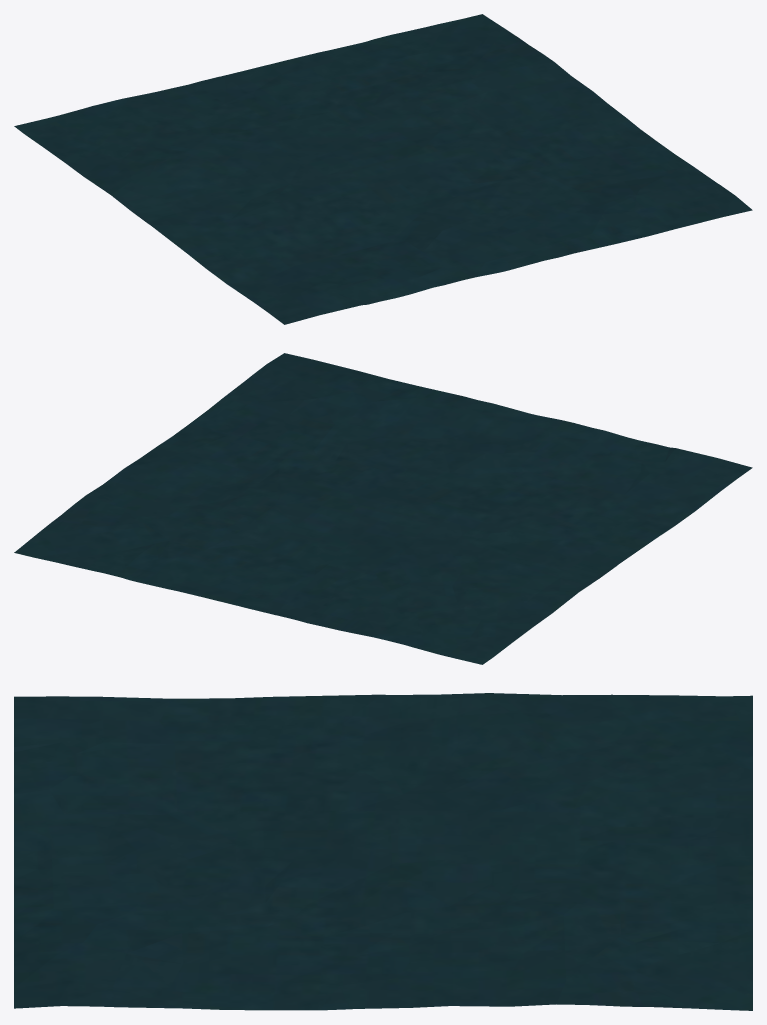
3 views of the same model, one above another, from view 1: azimuth 30°, elevation 25°; view 2: azimuth 150°, elevation 25°; view 3: azimuth 270°, elevation 25° (orthographic). The views are drawn at different scales.
Bounding box in the file's own units: 52.22 × 0.5794 × 52.22.
Materials: 2 (2 with a texture image).
